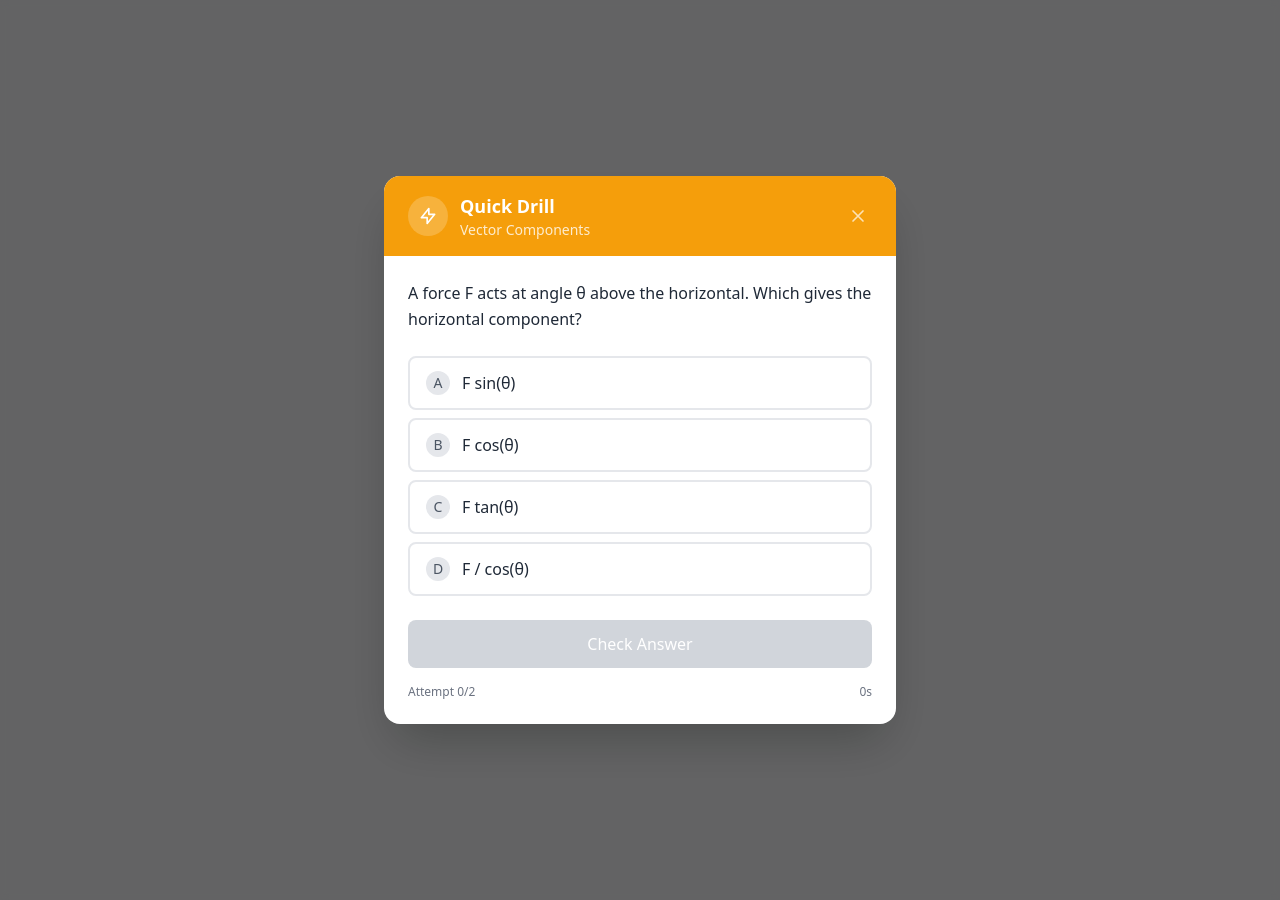
Test: DrillModal › Multiple Choice Interaction › resets selection when Try Again is clicked
This screenshot has width=1280, height=900.
# Select wrong answer
Click the button "A F sin(θ)" at [489, 383], box [408,356,872,410]
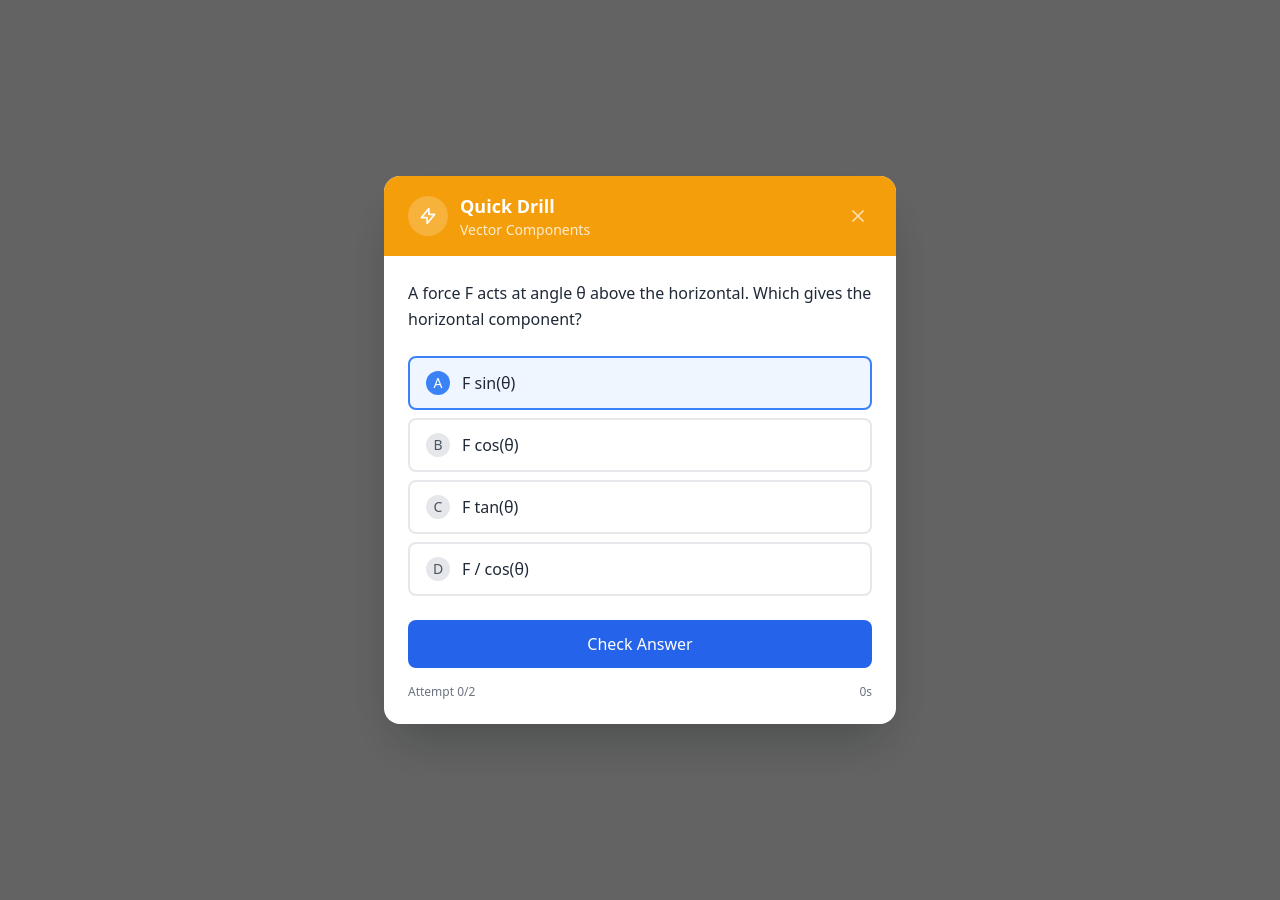
Click the button "Check Answer" at [640, 644], box [408,620,872,668]
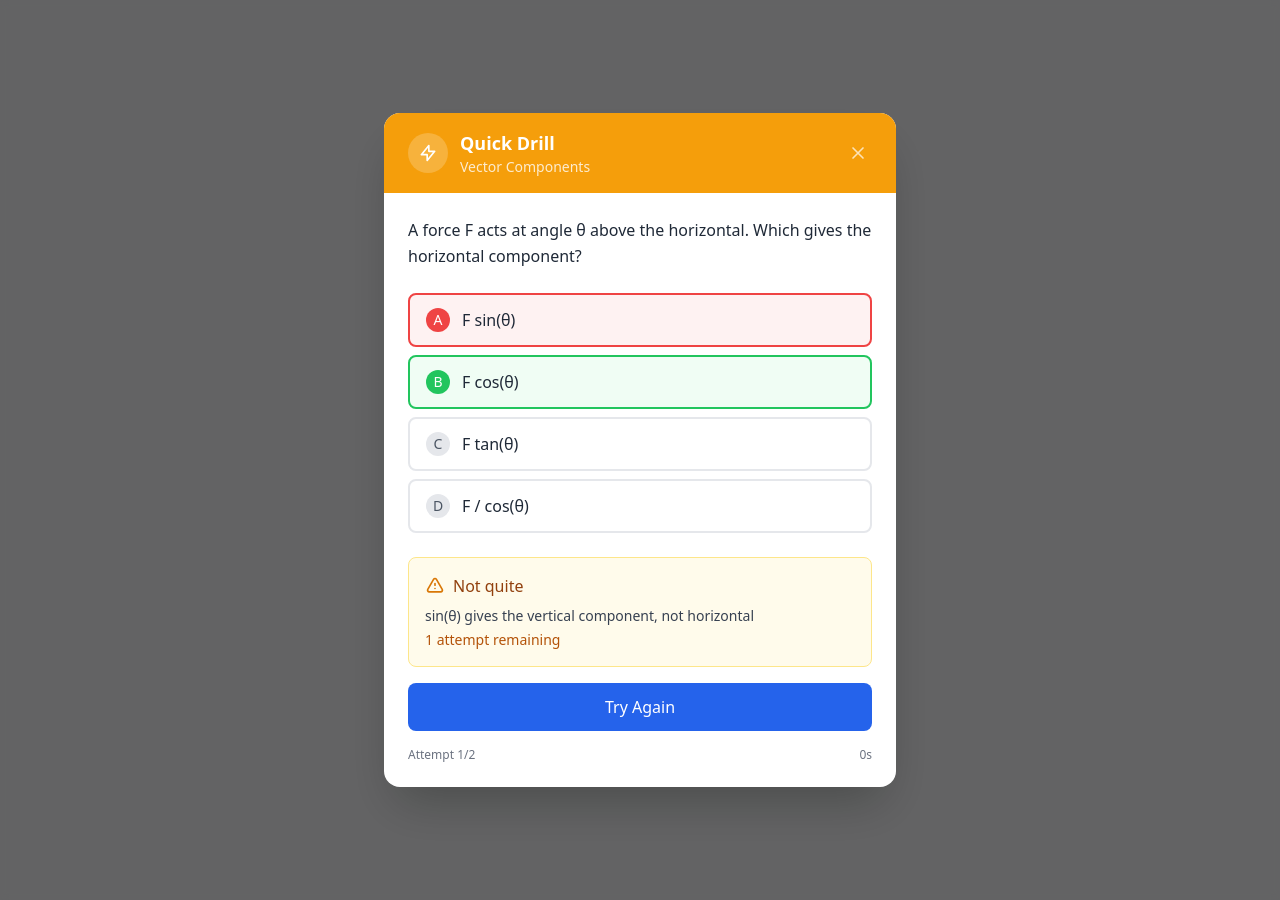
# Click Try Again
Click the button "Try Again" at [640, 707], box [408,683,872,731]
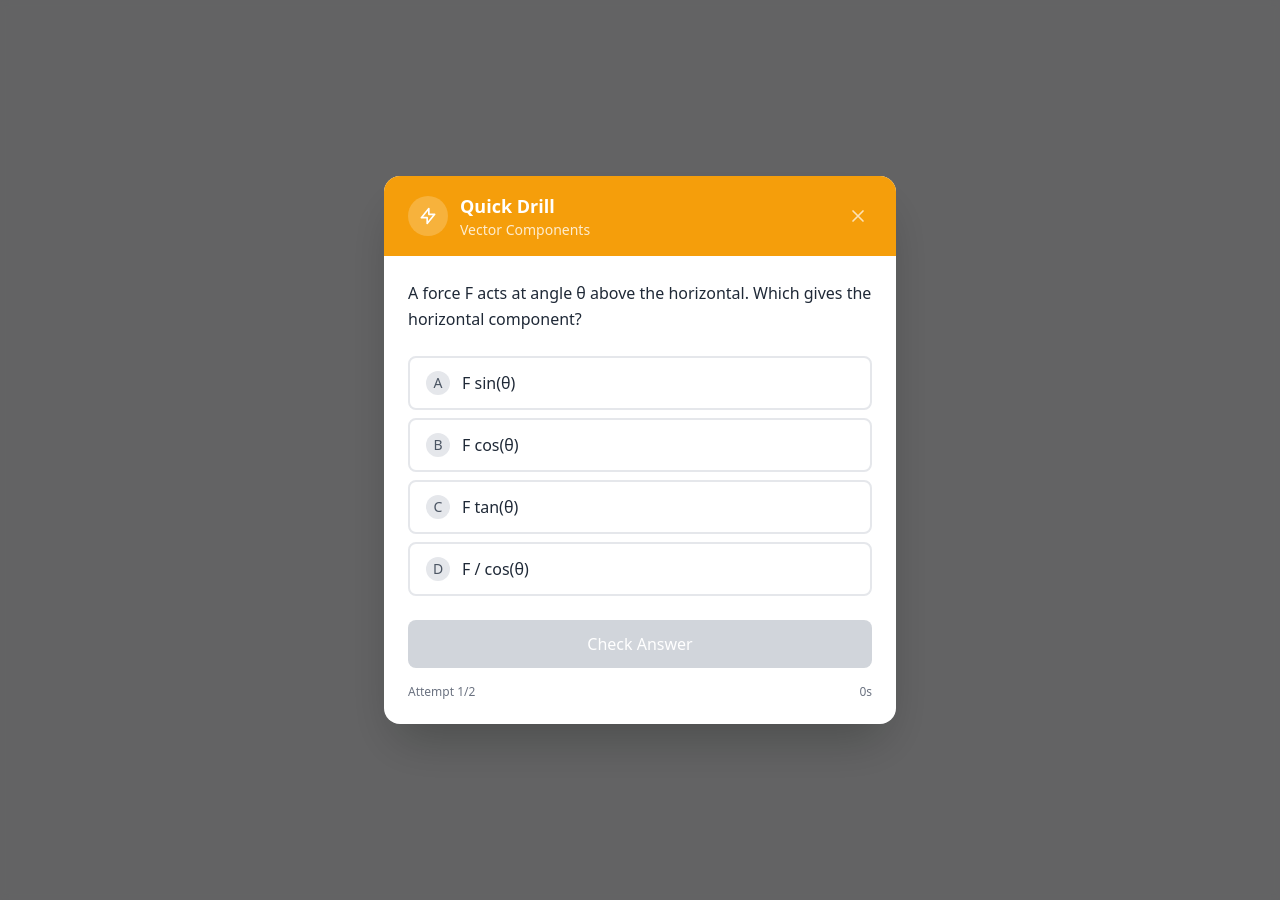
Expected: the button "Check Answer" is disabled, [408,620,872,668]
